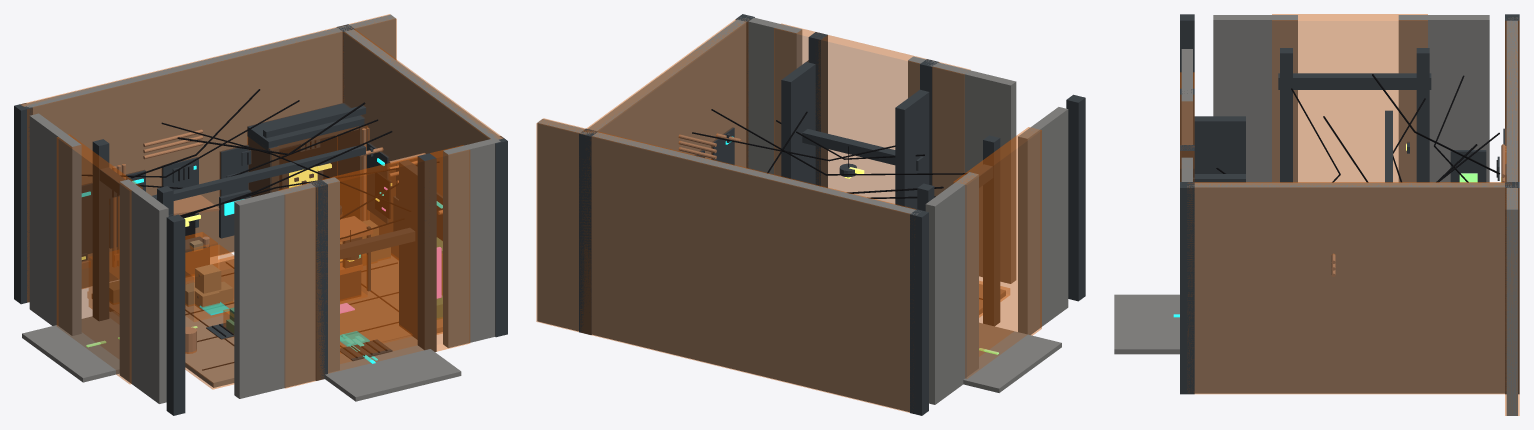
The model's file is Hesperus_DockBayCorner_SideAlleyJunction_ModuleSet.glb.
3 renders of one model, left to right at view 1: azimuth 30°, elevation 25°; view 2: azimuth 150°, elevation 25°; view 3: azimuth 270°, elevation 25°, orthographic. The views are drawn at different scales.
Visible parts, largest first — view 1: COL_BottomSideAlleyFrame, Wall_Back_Corner, COL_BackWall, SideAlley_LeftFrameWall, COL_LeftDockWall_Blockers, Wall_Right_Corner, SideAlley_RightFrameWall, DockEntry_LeftReturnWall, DockEntry_RightReturnWall, COL_RightWall, Floor_Junction_Main, Floor_SideAlley_Entry (+35 smaller); view 2: Wall_Back_Corner, COL_BackWall, COL_BottomSideAlleyFrame, COL_LeftDockWall_Blockers, Wall_Right_Corner, COL_RightWall, SideAlley_LeftFrameWall, DockEntry_RightReturnWall, DockEntry_LeftReturnWall, SideAlley_RightFrameWall, CornerPillar_A_01, Floor_DockBay_Entry (+11 smaller); view 3: Wall_Right_Corner, COL_RightWall, COL_LeftDockWall_Blockers, DockEntry_LeftReturnWall, DockEntry_RightReturnWall, Wall_Back_Corner, Floor_SideAlley_Entry, CornerPillar_A_03, SideAlley_Entry_LeftFrame, DockEntry_TopBeam, DockEntry_HeavyPillar_A, DockEntry_HeavyPillar_B (+10 smaller).
Boxes of the visible parts, x1,y1,x2,y2 form: COL_BottomSideAlleyFrame: (278,145,469,388); Wall_Back_Corner: (21,14,395,288); COL_BackWall: (21,14,396,301); SideAlley_LeftFrameWall: (234,177,339,398); COL_LeftDockWall_Blockers: (57,134,142,384); Wall_Right_Corner: (342,28,502,259); SideAlley_RightFrameWall: (443,138,500,347); DockEntry_LeftReturnWall: (29,113,81,335); DockEntry_RightReturnWall: (119,179,168,403); COL_RightWall: (343,29,502,161); Floor_Junction_Main: (92,255,442,387); Floor_SideAlley_Entry: (325,335,461,401); Wall_Back_Corner: (537,119,918,412); COL_BackWall: (536,118,915,412); COL_BottomSideAlleyFrame: (774,23,969,203); COL_LeftDockWall_Blockers: (953,127,1041,378); Wall_Right_Corner: (588,17,748,167); COL_RightWall: (584,19,748,167); SideAlley_LeftFrameWall: (908,56,1016,283); DockEntry_RightReturnWall: (1018,107,1068,334); DockEntry_LeftReturnWall: (925,172,978,404); SideAlley_RightFrameWall: (743,16,802,176); CornerPillar_A_01: (910,209,928,415); Floor_DockBay_Entry: (963,322,1061,392); Wall_Right_Corner: (1187,182,1506,393); COL_RightWall: (1189,182,1505,393); COL_LeftDockWall_Blockers: (1272,14,1427,182); DockEntry_LeftReturnWall: (1398,15,1489,182); DockEntry_RightReturnWall: (1213,15,1297,182); Wall_Back_Corner: (1506,17,1517,415); Floor_SideAlley_Entry: (1114,294,1179,354); CornerPillar_A_03: (1180,182,1194,394); SideAlley_Entry_LeftFrame: (1193,116,1245,173); DockEntry_TopBeam: (1278,73,1431,89); DockEntry_HeavyPillar_A: (1416,48,1429,182); DockEntry_HeavyPillar_B: (1280,48,1292,182).
Size of the model in its own units: 15.5 by 7 by 12.47.
